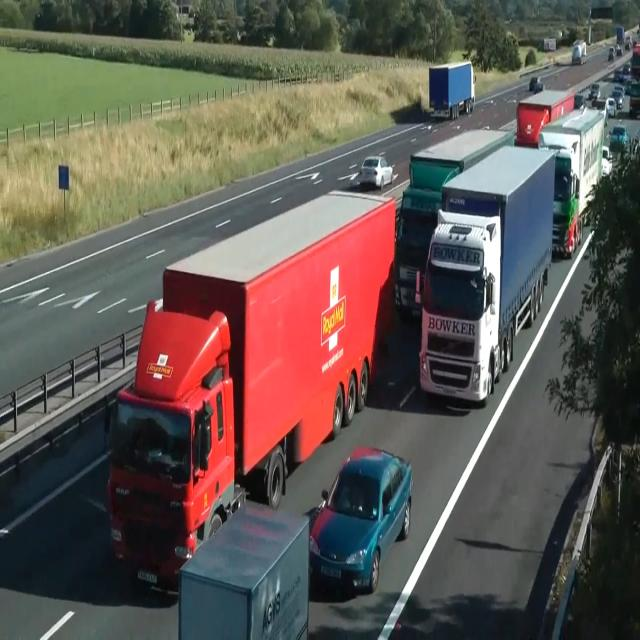bus: (304, 445, 412, 595), (360, 154, 394, 188), (607, 124, 629, 150), (601, 145, 613, 179), (612, 86, 624, 110), (588, 82, 600, 101), (529, 76, 543, 92), (573, 90, 585, 108), (606, 97, 616, 117), (613, 66, 623, 82), (533, 82, 543, 92), (614, 44, 622, 56)
car: (106, 187, 398, 594)
jeep: (106, 296, 244, 594), (393, 185, 441, 319)
minibus: (418, 144, 556, 406), (394, 127, 516, 320), (178, 497, 310, 639), (538, 102, 606, 259), (408, 127, 516, 192), (515, 88, 575, 148), (428, 60, 476, 120), (176, 4, 194, 28), (630, 43, 640, 80), (572, 39, 586, 64), (543, 37, 556, 51), (616, 26, 624, 42)
